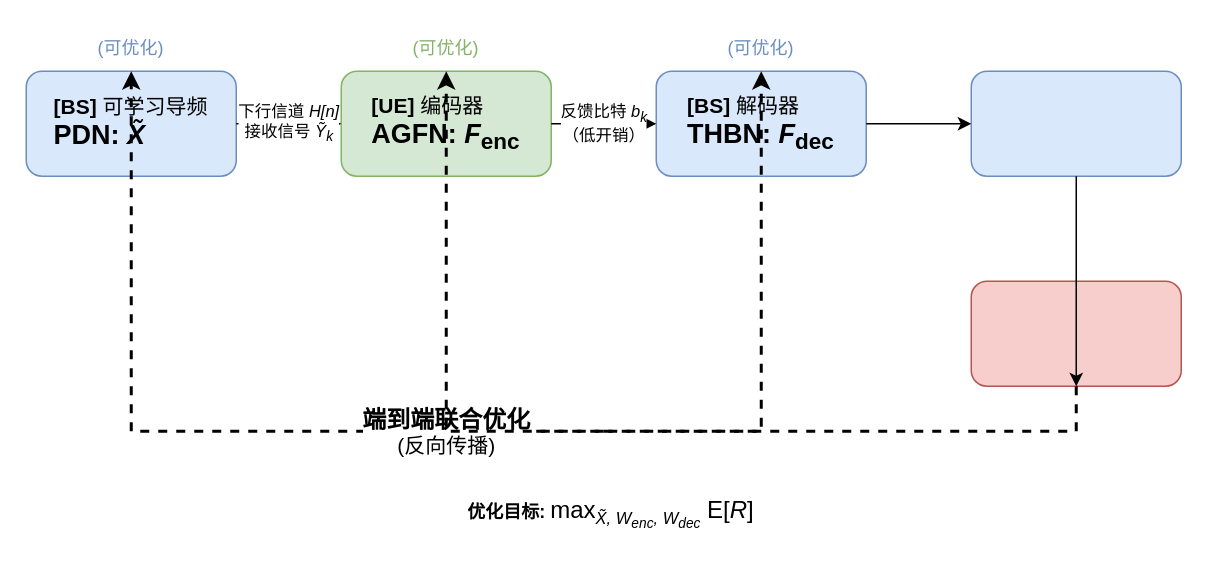
This 1208x561 diagram has some shape labels left out. The shapes that lost their labels are listed below. From the top down, each one's box as (x1, y1, x2, y2) in pixels, then its label:
(970, 70, 1181, 176): [BS] 生成预编码 V RF , V Dig
(970, 280, 1181, 386): 系统性能 和速率 R
